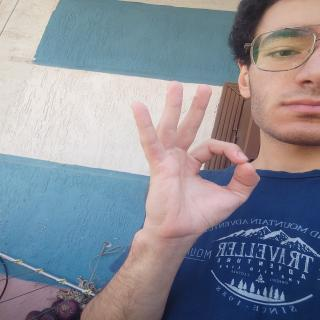Space: (126, 74, 267, 224)
